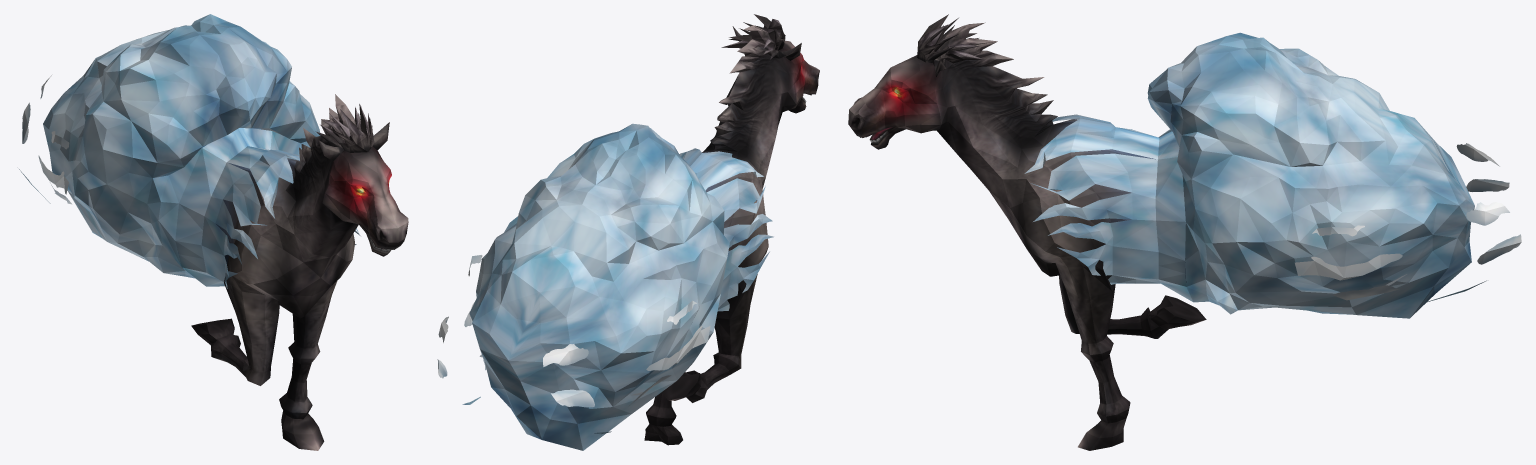
Rendered from Nightmare.fbx.
3 views of the same model, side by side, from view 1: azimuth 30°, elevation 25°; view 2: azimuth 150°, elevation 25°; view 3: azimuth 270°, elevation 25° (orthographic). The views are drawn at different scales.
Parts seen in each view (by area): view 1: Tail, Body; view 2: Tail, Body; view 3: Tail, Body.
Boxes of the visible parts, x1=… form: Tail: x1=19, y1=14, x2=360, y2=288; Body: x1=178, y1=94, x2=408, y2=450; Tail: x1=437, y1=123, x2=773, y2=450; Body: x1=644, y1=14, x2=819, y2=445; Tail: x1=1024, y1=32, x2=1521, y2=318; Body: x1=848, y1=14, x2=1206, y2=450.
Bounding box in the file's own units: 877 × 1413 × 2090.
2 materials, 2 textured.
